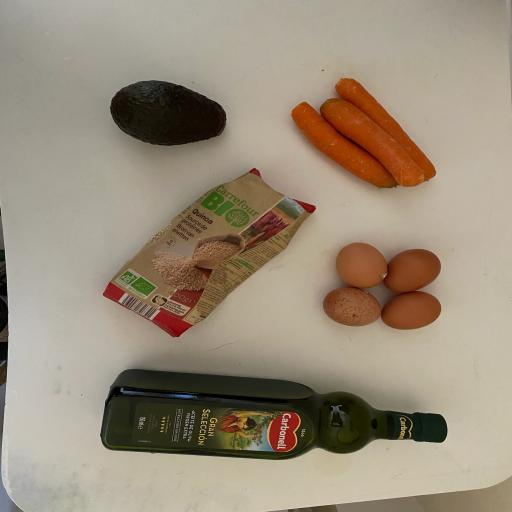avocado: (102, 74, 232, 156)
carrot: (328, 69, 450, 193), (315, 93, 433, 193), (286, 94, 402, 193)
egg: (331, 238, 392, 294), (380, 245, 446, 295), (320, 283, 384, 333), (378, 288, 446, 334)
olive_oil: (91, 362, 454, 466)
quinoa: (87, 164, 320, 343)
